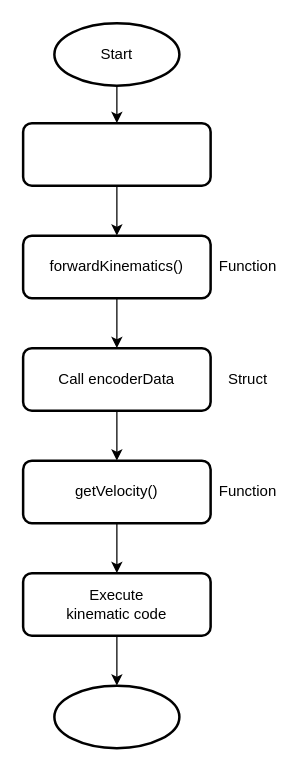
Some shapes in this 306 by 770 pixel diagram are drawn without their labels. The shapes that lost their labels are listed below. From the top down, each one's centre as x and y in pixels, then its label:
At point (116, 153): "Initialise Variables".
At point (116, 716): "End".
